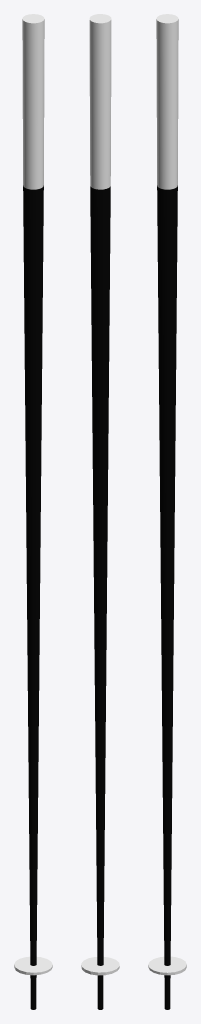
File: handle.fbx
The picture shows the model from 3 angles, left to right: view 1: azimuth 90°, elevation 25°; view 2: azimuth 150°, elevation 25°; view 3: azimuth 270°, elevation 25°; orthographic projection.
Visible parts, largest first — view 1: pCylinder8; view 2: pCylinder8; view 3: pCylinder8.
Boxes of the visible parts, x1,y1,x2,y2 form: pCylinder8: [14, 14, 52, 1009]; pCylinder8: [81, 14, 119, 1009]; pCylinder8: [148, 14, 186, 1009].
Size of the model in its own units: 0.334 by 9.41 by 0.334.
